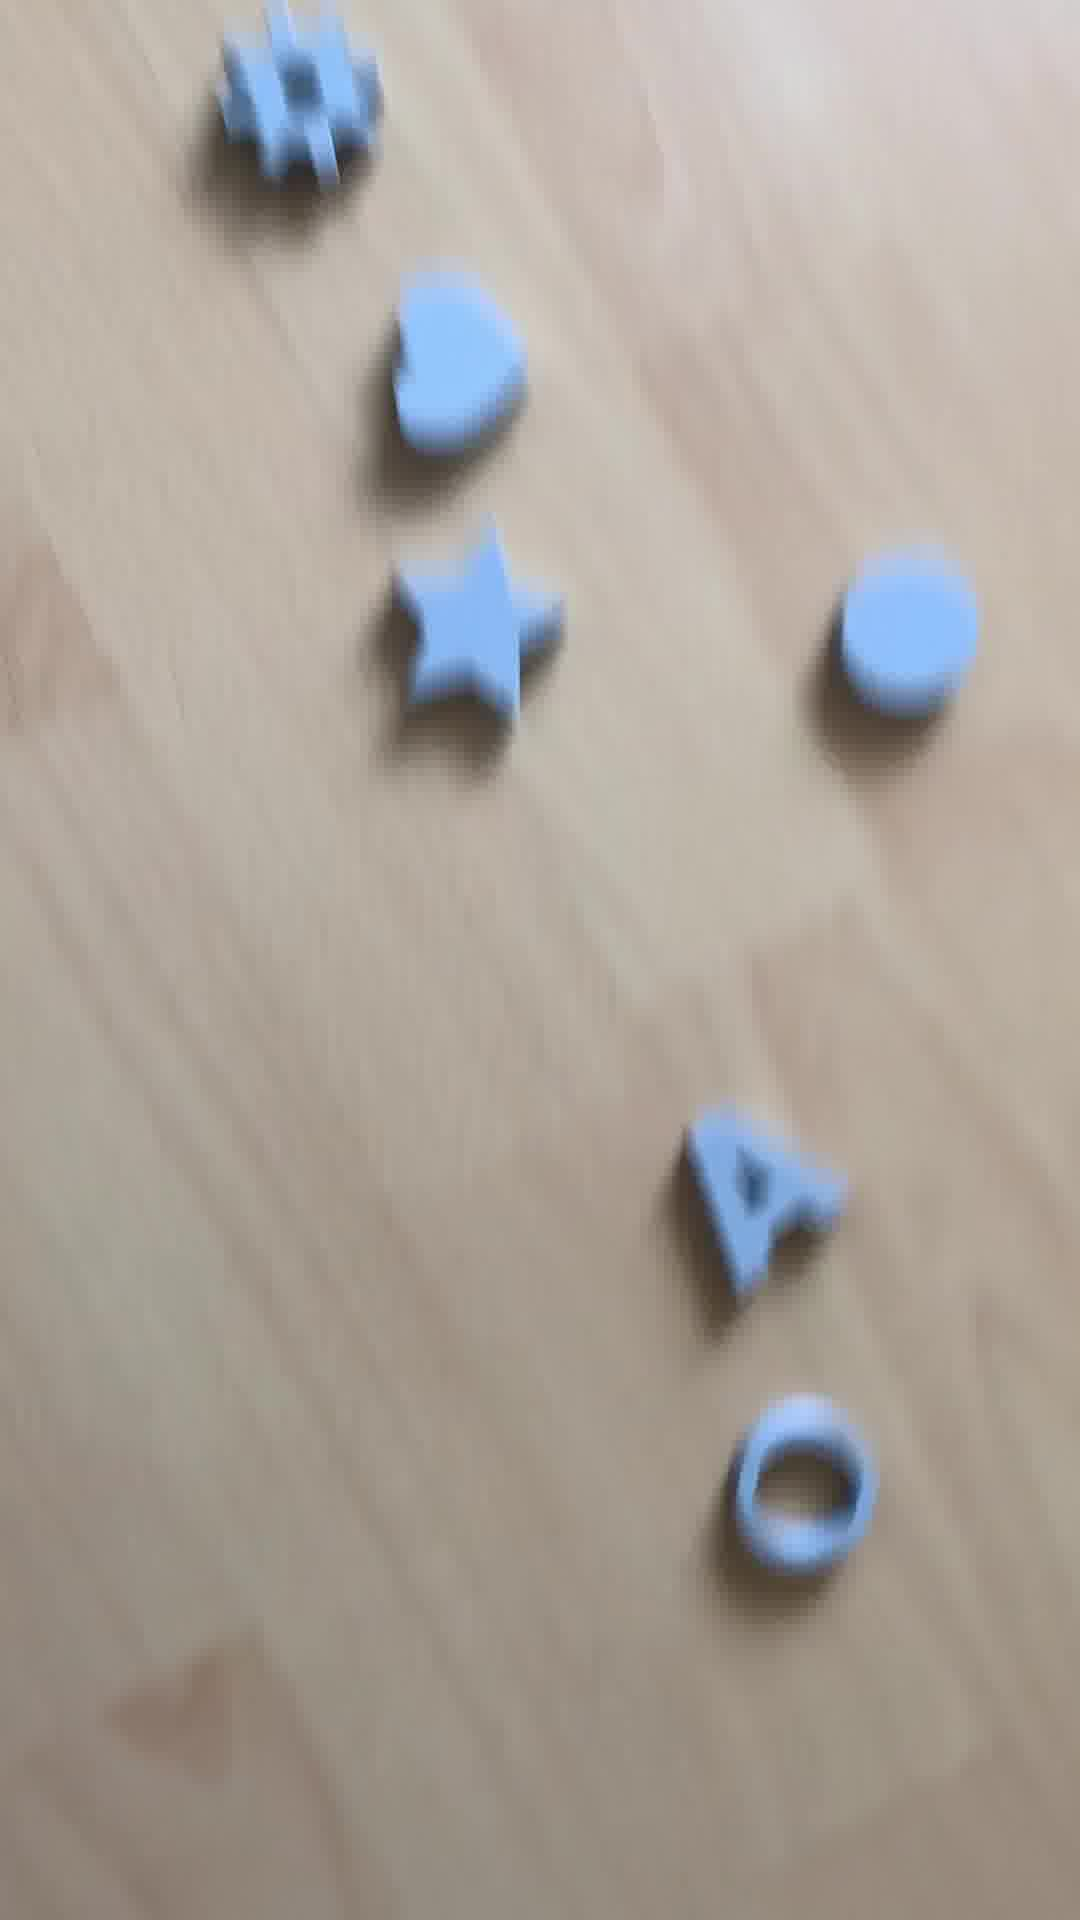Gray A-letter: (655, 1102, 866, 1312)
Gray circle: (823, 559, 990, 736)
Gray gear: (198, 1, 427, 208)
Gray heart: (372, 261, 555, 458)
Gray ring: (719, 1395, 905, 1569)
Gray star: (392, 518, 566, 738)
